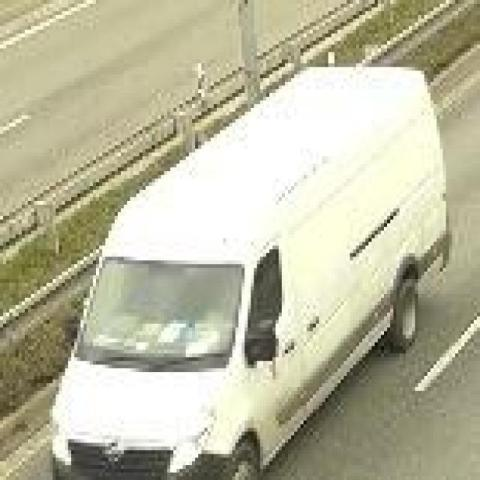van: (51, 63, 448, 480)
